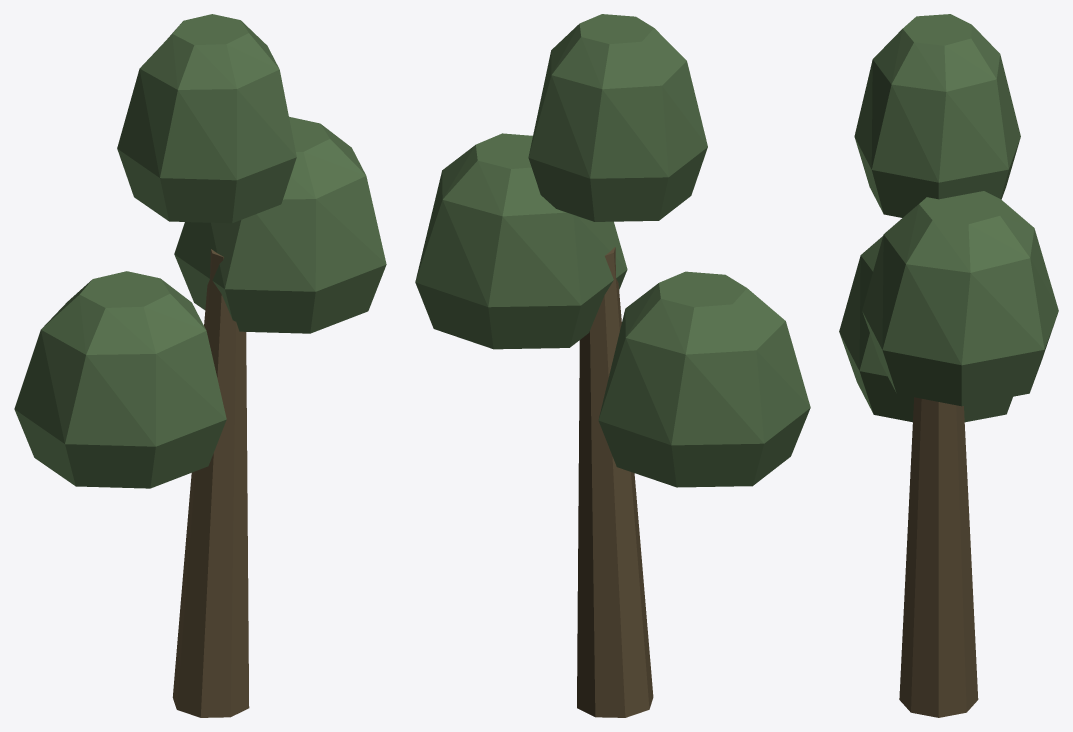
The model's file is sapling.glb.
The picture shows the model from 3 angles, left to right: view 1: azimuth 30°, elevation 25°; view 2: azimuth 150°, elevation 25°; view 3: azimuth 270°, elevation 25°; orthographic projection.
Parts seen in each view (by area): view 1: sapling__body; view 2: sapling__body; view 3: sapling__body.
Part boxes in pixels (x1=…): sapling__body: x1=14, y1=14, x2=386, y2=717; sapling__body: x1=415, y1=14, x2=810, y2=717; sapling__body: x1=839, y1=14, x2=1058, y2=717.
Bounding box in the file's own units: 1.23 × 2.25 × 0.6689.
